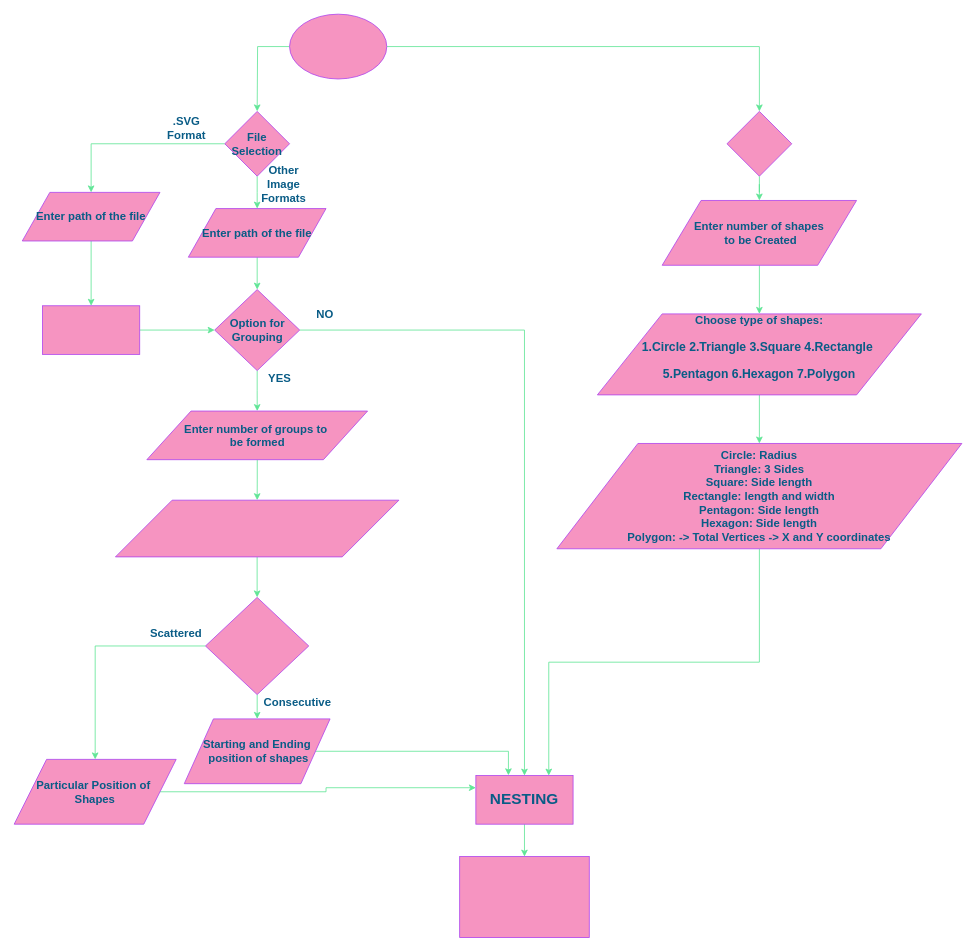
Image size: 976x952. Some labels were removed from this diagram. The box of each missing label's shape, as (x1, y1, x2, y2) in pixels:
Conversion to image(.png): (42, 305, 140, 354)
Enter number of shapes in each group: (115, 499, 399, 557)
FreeCAD file of .FCMacro is saved in the given path: (459, 856, 589, 938)
Length and Width of Sheet: (289, 13, 387, 79)
Shape Creation: (726, 111, 792, 176)
Type of group: (205, 597, 309, 695)
